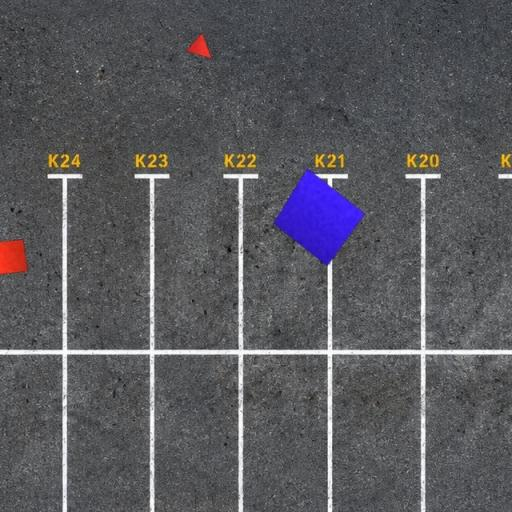BLUE_SQUARE: (272, 167, 366, 267)
RED_SQUARE: (0, 238, 29, 276)
